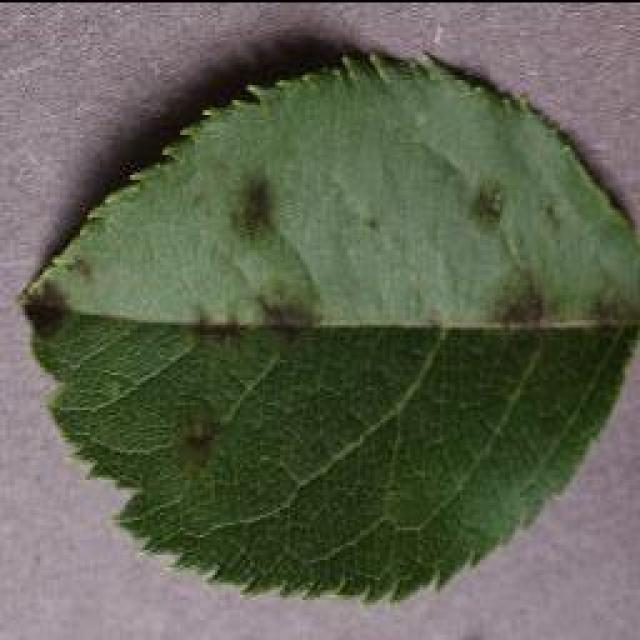apple scab disease: (15, 43, 637, 605)
